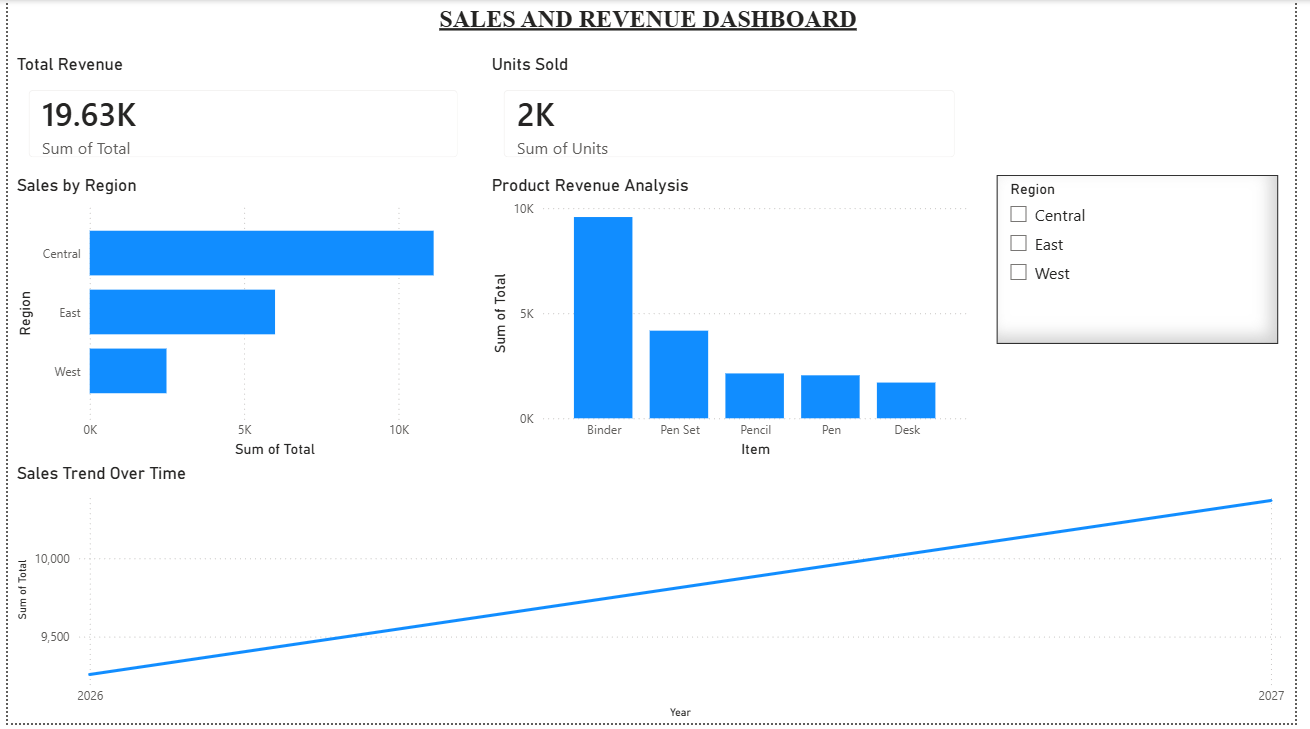

The dashboard page shown, as its layout file describes it:
{"tool":"powerbi","page":{"name":"Page 1","canvas":[1280,720],"ordinal":0},"visuals":[{"type":"cardVisual","title":"Total Revenue","fields":{"Data":["Sum(SalesOrders.Total)"]},"box":[3.7,53.5,461.5,120.7],"z":0},{"type":"cardVisual","title":"Units Sold","fields":{"Data":["Sum(SalesOrders.Units)"]},"box":[476.4,53.5,483.9,120.7],"z":1},{"type":"clusteredBarChart","title":"Sales by Region","fields":{"Category":["SalesOrders.Region"],"Y":["Sum(SalesOrders.Total)"]},"box":[3.7,174.2,461.5,286.1],"z":2},{"type":"clusteredColumnChart","title":"Product Revenue Analysis","fields":{"Category":["SalesOrders.Item"],"Y":["Sum(SalesOrders.Total)"]},"box":[476.4,174.2,483.9,286.1],"z":3},{"type":"lineChart","title":"Sales Trend Over Time","fields":{"Category":["SalesOrders.OrderDate.Variation.Date Hierarchy.Year","SalesOrders.OrderDate.Variation.Date Hierarchy.Quarter","SalesOrders.OrderDate.Variation.Date Hierarchy.Month","SalesOrders.OrderDate.Variation.Date Hierarchy.Day"],"Y":["Sum(SalesOrders.Total)"]},"box":[3.7,460.3,1271.3,260],"z":4},{"type":"slicer","fields":{"Values":["SalesOrders.Region"]},"box":[984,174.2,279.9,167.9],"z":5},{"type":"textbox","box":[424.2,0,430.4,37.3],"z":6}]}

Visuals, with their boxes in screenshot pixels (x1, y1, x2, y2), scaled from the page's 1280x720 canvas onto the 1310x729 screenshot:
"Total Revenue" cardVisual: BBox(4, 54, 476, 176)
"Units Sold" cardVisual: BBox(488, 54, 983, 176)
"Sales by Region" clusteredBarChart: BBox(4, 176, 476, 466)
"Product Revenue Analysis" clusteredColumnChart: BBox(488, 176, 983, 466)
"Sales Trend Over Time" lineChart: BBox(4, 466, 1305, 728)
slicer - SalesOrders.Region: BBox(1007, 176, 1294, 346)
textbox: BBox(434, 0, 875, 38)
